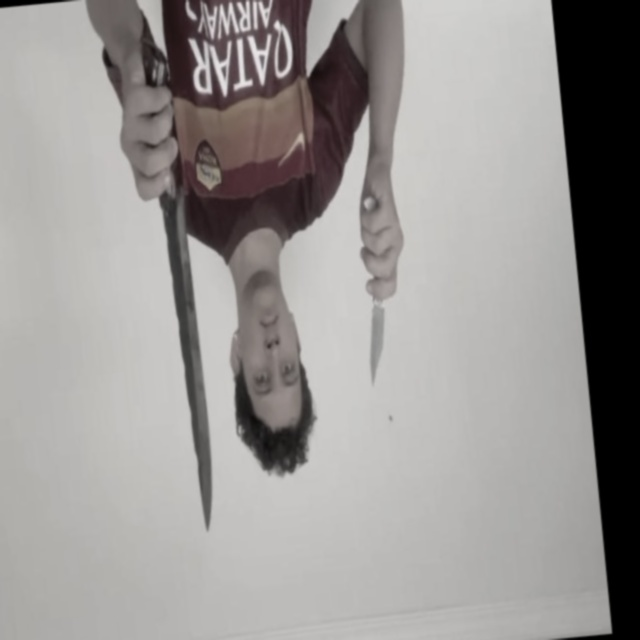Sharp-Object: (162, 189, 220, 532), (363, 308, 392, 388)
